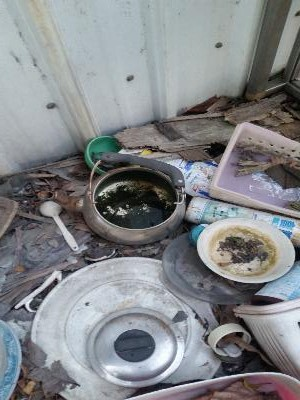bowl: (81, 152, 189, 242), (81, 136, 133, 174)
box: (210, 121, 300, 216)
plate: (31, 256, 223, 400), (82, 308, 182, 390), (195, 219, 300, 285)
